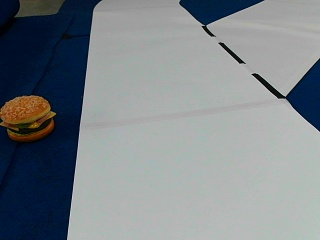burger: (1, 93, 55, 141)
